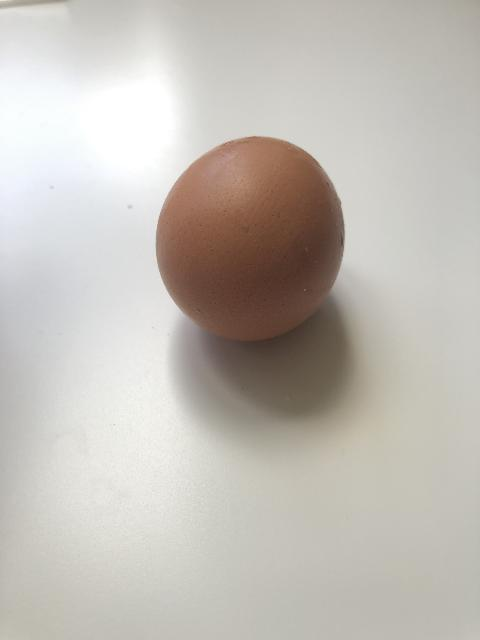Sano: (154, 134, 346, 342)
